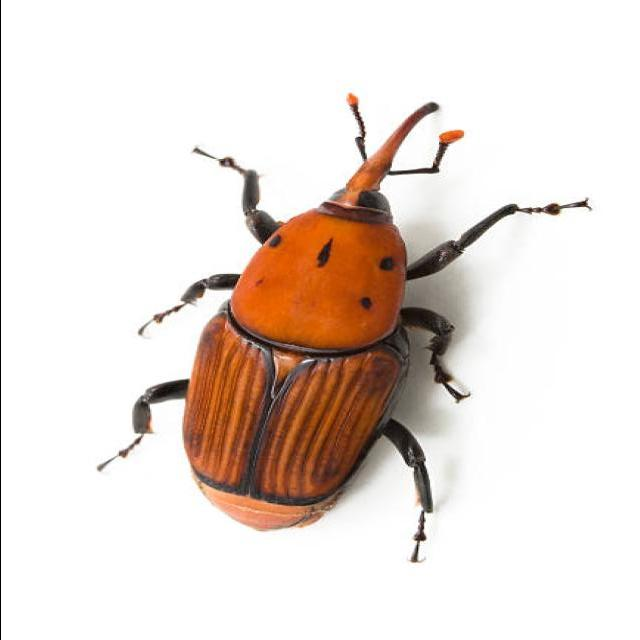Red-palm-weevil: (90, 6, 614, 598)
